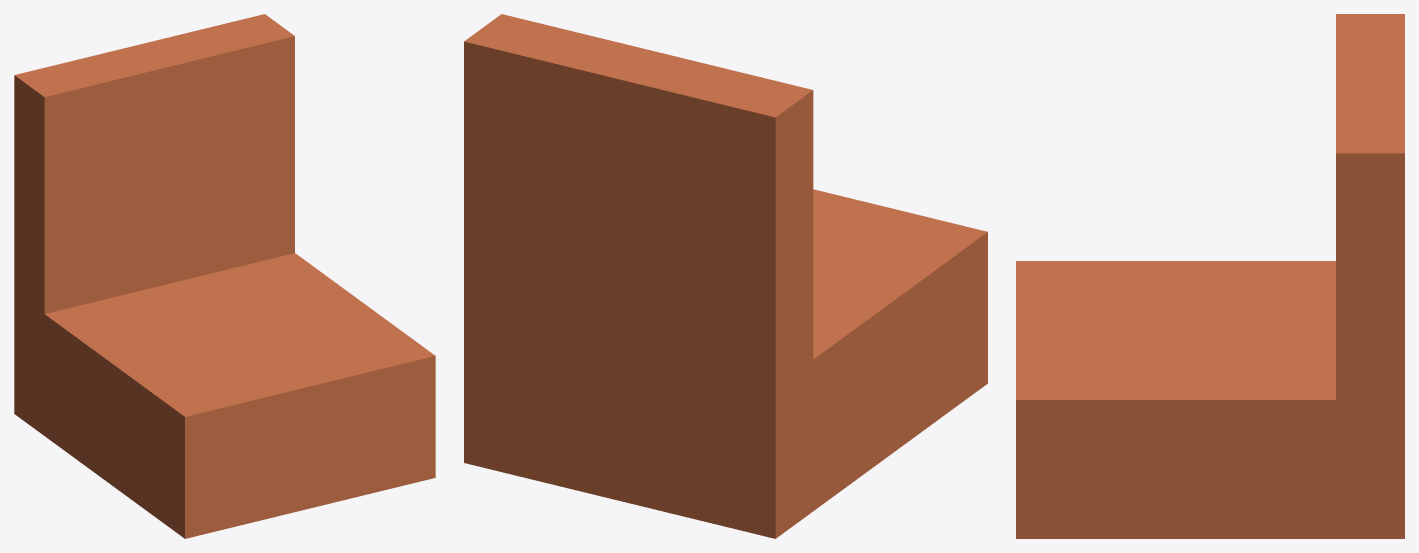
The model's file is Chair_1.FBX.
The picture shows the model from 3 angles, left to right: view 1: azimuth 30°, elevation 25°; view 2: azimuth 150°, elevation 25°; view 3: azimuth 270°, elevation 25°; orthographic projection. The views are drawn at different scales.
Visible parts, largest first — view 1: Chair 01; view 2: Chair 01; view 3: Chair 01.
Boxes of the visible parts, bbox=[...] form: Chair 01: bbox=[14, 14, 435, 538]; Chair 01: bbox=[464, 14, 987, 538]; Chair 01: bbox=[1016, 14, 1404, 538].
Size of the model in its own units: 0.4712 by 0.6092 by 0.5563.
Materials: 1 (1 with a texture image).
